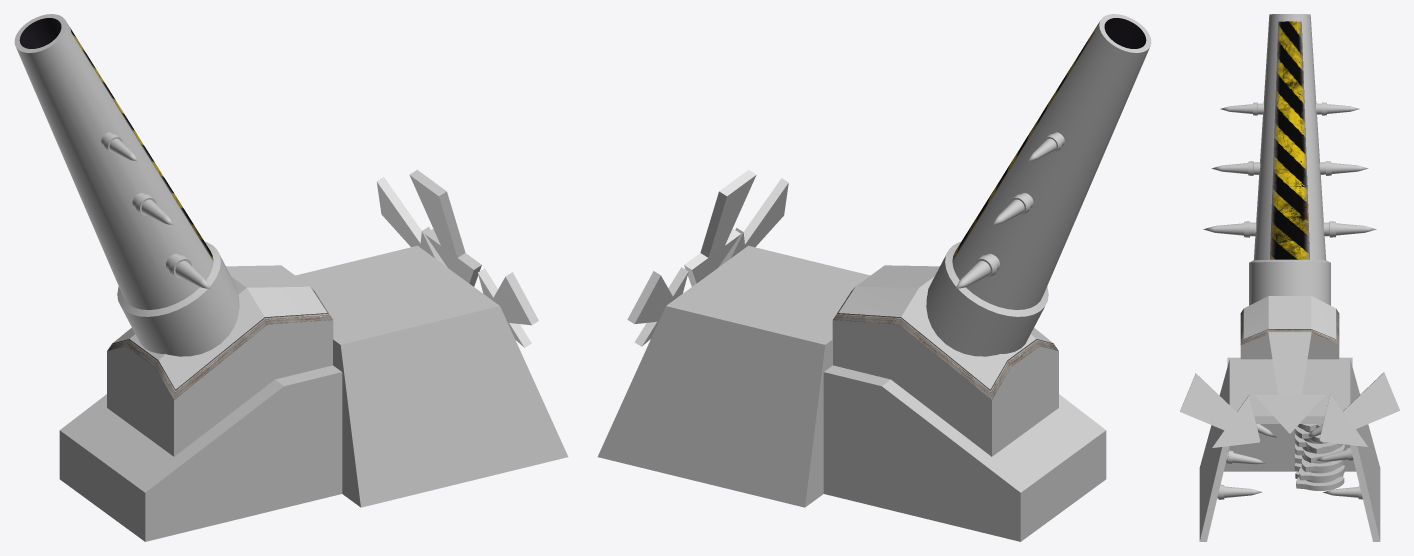
Rendered from checkpoint.fbx.
The picture shows the model from 3 angles, left to right: view 1: azimuth 30°, elevation 25°; view 2: azimuth 150°, elevation 25°; view 3: azimuth 270°, elevation 25°; orthographic projection. The views are drawn at different scales.
Parts seen in each view (by area): view 1: checkpoint; view 2: checkpoint; view 3: checkpoint, shredder.
Boxes of the visible parts, bbox=[...] form: checkpoint: bbox=[14, 14, 568, 541]; checkpoint: bbox=[597, 14, 1151, 541]; checkpoint: bbox=[1180, 14, 1399, 541]; shredder: bbox=[1294, 424, 1344, 490].
Bounding box in the file's own units: 1384 × 1364 × 737.
